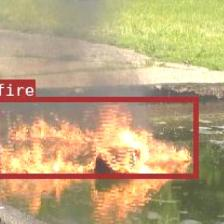fire: (0, 96, 197, 177)
